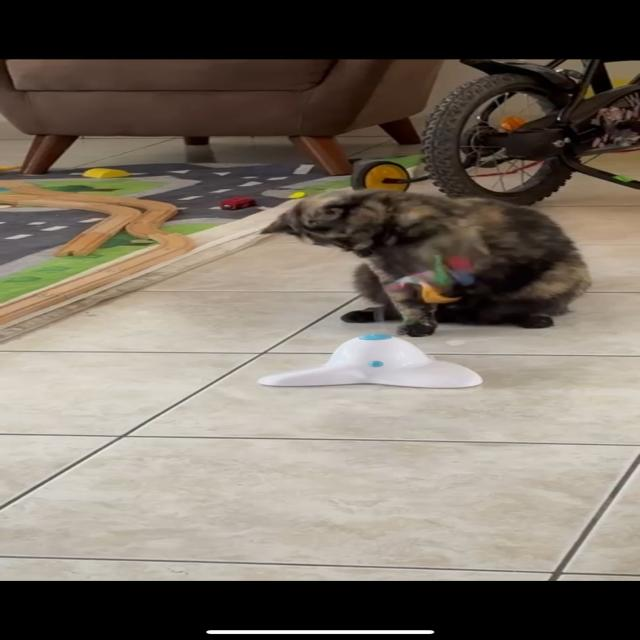authorized: (259, 186, 592, 337)
